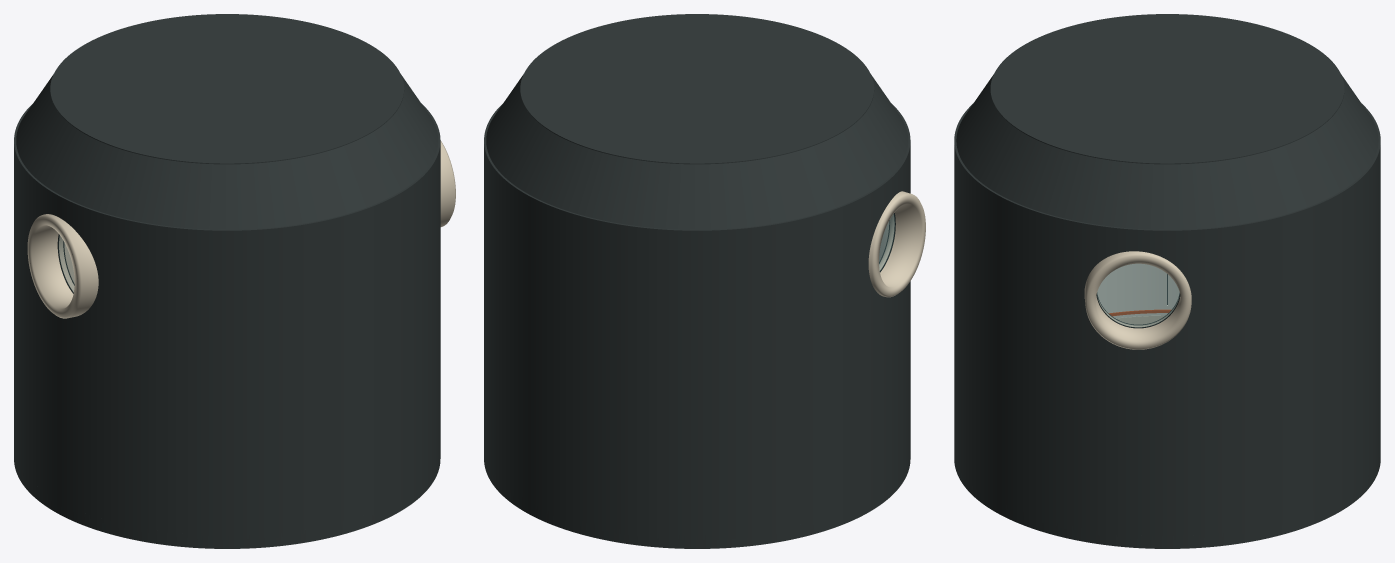
The model's file is CompactCockpit_Architecture.glb.
3 renders of one model, left to right at view 1: azimuth 30°, elevation 25°; view 2: azimuth 150°, elevation 25°; view 3: azimuth 270°, elevation 25°, orthographic.
Parts seen in each view (by area): view 1: CircularRoof_Continuous.002, PressureShell_10.002, PressureShell_11.002, PressureShell_09.002, PressureShell_12.002, PressureShell_08.002, PressureShell_13.002, PressureShell_07.002, PortWindow_Left_Frame.001, RoofShoulder_Structure_10.002, RoofShoulder_Structure_11.002, CircularFloor_Continuous.002 (+10 smaller); view 2: CircularRoof_Continuous.002, PressureShell_05.002, PressureShell_04.002, PressureShell_06.002, PressureShell_03.002, PressureShell_07.002, PressureShell_02.002, PressureShell_08.002, RoofShoulder_Structure_05.002, RoofShoulder_Structure_04.002, CircularFloor_Continuous.002, RoofShoulder_Structure_06.002 (+9 smaller); view 3: CircularRoof_Continuous.002, PressureShell_00.002, PressureShell_01.002, PressureShell_14.002, PressureShell_15.002, PressureShell_02.002, PressureShell_13.002, PressureShell_03.002, PressureShell_12.002, RoofShoulder_Structure_00.002, RoofShoulder_Structure_15.002, CircularFloor_Continuous.002 (+9 smaller).
Part boxes in pixels (x1,y1,x2,y2): CircularRoof_Continuous.002: [50, 14, 404, 164]; PressureShell_10.002: [172, 227, 254, 539]; PressureShell_11.002: [255, 218, 333, 538]; PressureShell_09.002: [97, 211, 172, 536]; PressureShell_12.002: [333, 195, 396, 527]; PressureShell_08.002: [42, 185, 98, 520]; PressureShell_13.002: [395, 163, 433, 504]; PressureShell_07.002: [16, 152, 43, 494]; PortWindow_Left_Frame.001: [27, 214, 98, 318]; RoofShoulder_Structure_10.002: [172, 162, 254, 229]; RoofShoulder_Structure_11.002: [250, 154, 332, 228]; CircularFloor_Continuous.002: [14, 451, 440, 548]; CircularRoof_Continuous.002: [520, 14, 874, 164]; PressureShell_05.002: [669, 226, 752, 539]; PressureShell_04.002: [590, 218, 669, 538]; PressureShell_06.002: [752, 211, 826, 536]; PressureShell_03.002: [528, 195, 591, 527]; PressureShell_07.002: [826, 185, 881, 521]; PressureShell_02.002: [491, 163, 529, 504]; PressureShell_08.002: [880, 152, 908, 494]; RoofShoulder_Structure_05.002: [669, 162, 751, 229]; RoofShoulder_Structure_04.002: [591, 154, 673, 228]; CircularFloor_Continuous.002: [484, 447, 910, 548]; RoofShoulder_Structure_06.002: [743, 149, 825, 226]; CircularRoof_Continuous.002: [990, 14, 1344, 164]; PressureShell_00.002: [1167, 223, 1248, 539]; PressureShell_01.002: [1248, 203, 1318, 532]; PressureShell_14.002: [1016, 203, 1086, 532]; PressureShell_15.002: [1086, 223, 1167, 539]; PressureShell_02.002: [1317, 174, 1364, 513]; PressureShell_13.002: [970, 174, 1017, 513]; PressureShell_03.002: [1363, 140, 1380, 483]; PressureShell_12.002: [954, 140, 971, 483]; RoofShoulder_Structure_00.002: [1167, 158, 1247, 229]; RoofShoulder_Structure_15.002: [1087, 158, 1167, 229]; CircularFloor_Continuous.002: [954, 450, 1380, 548].
Size of the model in its own units: 2.4 by 2.25 by 2.35.
